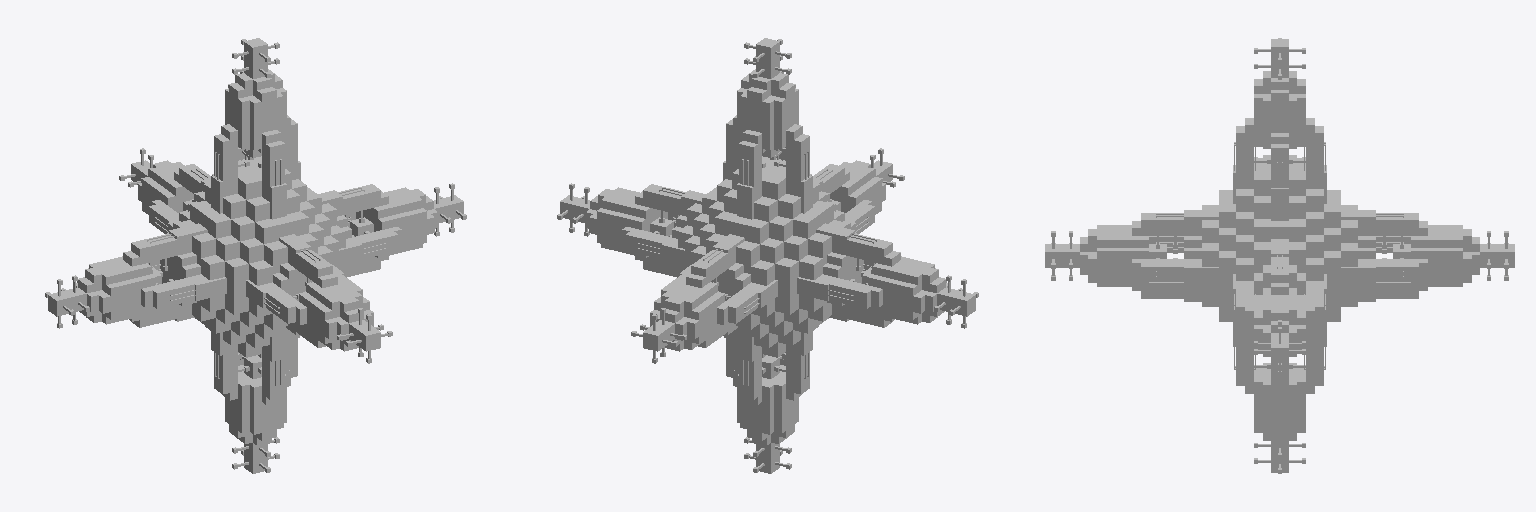
Rendered from stfr_new.obj.
The picture shows the model from 3 angles: view 1: azimuth 30°, elevation 25°; view 2: azimuth 150°, elevation 25°; view 3: azimuth 270°, elevation 25°; orthographic projection.
Visible parts, largest first — view 1: 1; view 2: 1; view 3: 1.
Boxes of the visible parts, <box> form: 1: <box>45,38,466,473</box>; 1: <box>557,38,978,473</box>; 1: <box>1045,38,1514,473</box>.
Size of the model in its own units: 27 by 27 by 27.